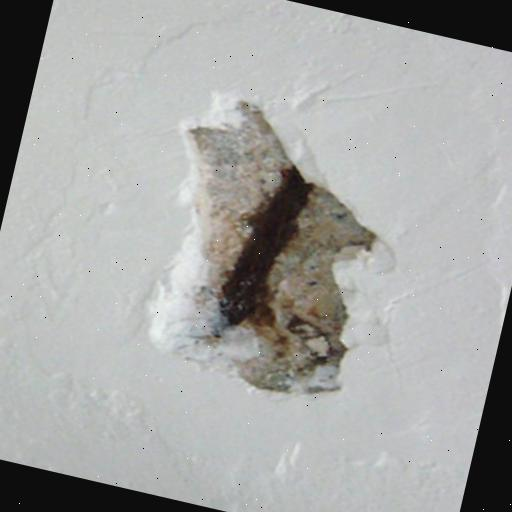spalling: (140, 103, 384, 402)
